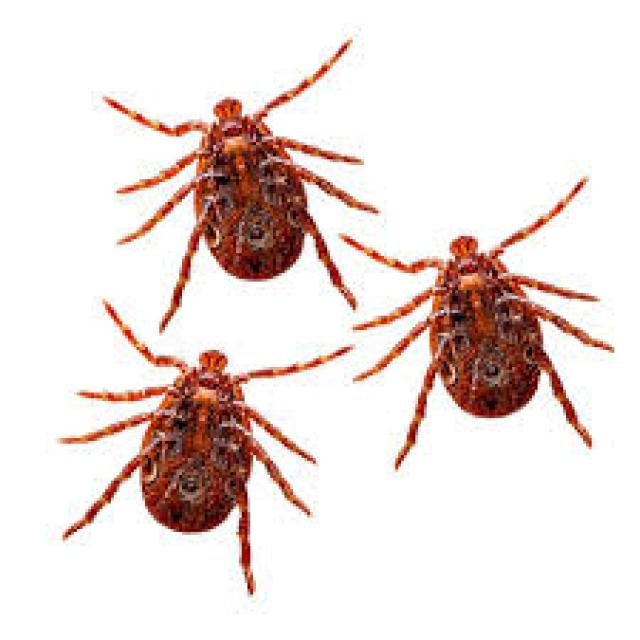Mites: (60, 279, 358, 606), (106, 23, 383, 330), (354, 184, 614, 497)
